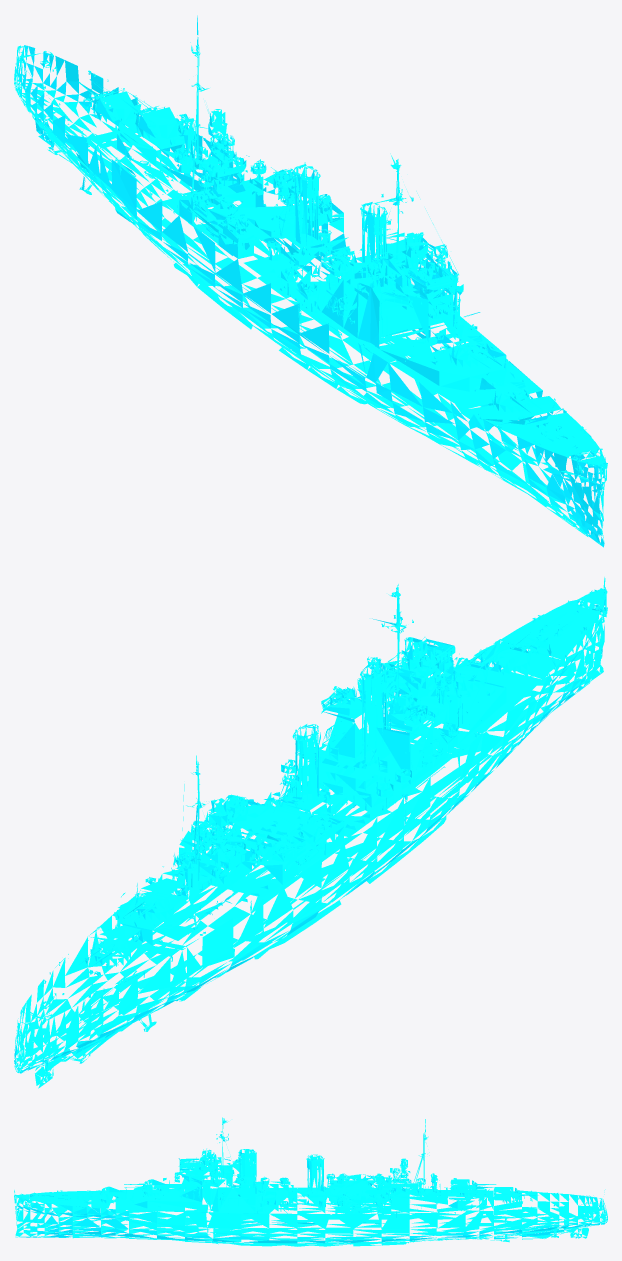
The model's file is London.glb.
3 renders of one model, top to bottom at view 1: azimuth 30°, elevation 25°; view 2: azimuth 150°, elevation 25°; view 3: azimuth 270°, elevation 25°, orthographic. The views are drawn at different scales.
Bounding box in the file's own units: 1.5 × 2.9 × 12.8.
